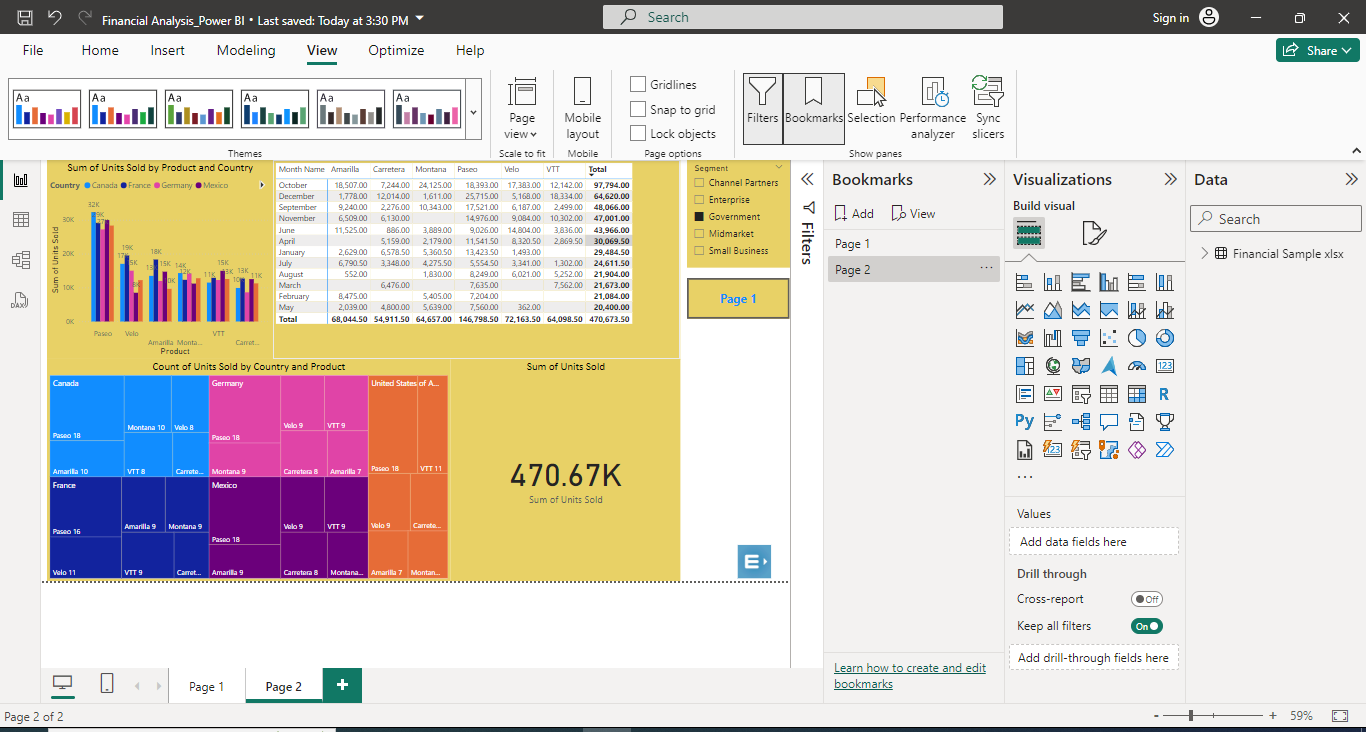

What the dashboard file says about the page in this screenshot:
{"tool":"powerbi","page":{"name":"Page 2","canvas":[1280,720],"ordinal":1},"visuals":[{"type":"clusteredColumnChart","fields":{"Category":["Financial Sample xlsx. Product "],"Y":["Sum(Financial Sample xlsx.Units Sold)"],"Series":["Financial Sample xlsx.Country"]},"box":[9.6,0,387,340.3],"z":0},{"type":"treemap","fields":{"Group":["Financial Sample xlsx.Country"],"Details":["Financial Sample xlsx. Product "],"Values":["CountNonNull(Financial Sample xlsx.Units Sold)"]},"box":[9.7,340.9,690.1,379.8],"z":1000},{"type":"slicer","fields":{"Values":["Financial Sample xlsx.Segment"]},"box":[1104.6,0,175.6,183.9],"z":2000},{"type":"pivotTable","fields":{"Columns":["Financial Sample xlsx. Product "],"Values":["Sum(Financial Sample xlsx.Units Sold)"],"Rows":["Financial Sample xlsx. Month Name "]},"box":[396.5,0,695.7,340.9],"z":3000},{"type":"card","title":"Sum of Units Sold","fields":{"Values":["Sum(Financial Sample xlsx.Units Sold)"]},"box":[699.8,340.9,392.3,379.8],"z":4000},{"type":"actionButton","box":[1104.7,201.7,175.3,69.6],"z":4001},{"type":"image","box":[1159,653.2,121,66.8],"z":4002}]}

Visuals, with their boxes on the page's 1280x720 design canvas (x1, y1, x2, y2). These are canvas units, not pixel positions in the 1366x732 screenshot, which may show the page scaled, cropped or inside an application window:
clusteredColumnChart - Financial Sample xlsx. Product  x Sum(Financial Sample xlsx.Units Sold): (10, 0, 397, 340)
treemap - Financial Sample xlsx.Country x Financial Sample xlsx. Product : (10, 341, 700, 721)
slicer - Financial Sample xlsx.Segment: (1105, 0, 1280, 184)
pivotTable - Financial Sample xlsx. Product  x Sum(Financial Sample xlsx.Units Sold): (396, 0, 1092, 341)
"Sum of Units Sold" card: (700, 341, 1092, 721)
actionButton: (1105, 202, 1280, 271)
image: (1159, 653, 1280, 720)
